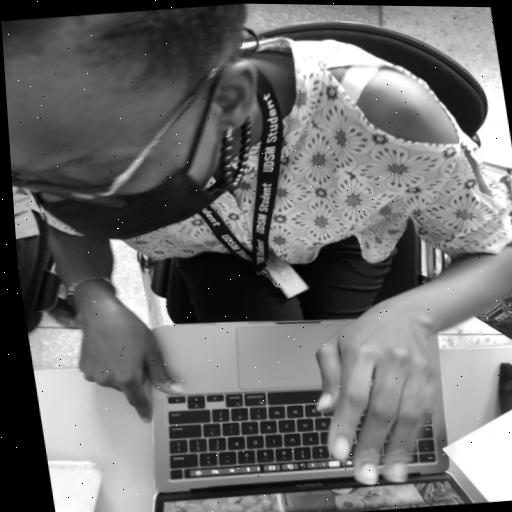mask: (4, 53, 240, 249)
